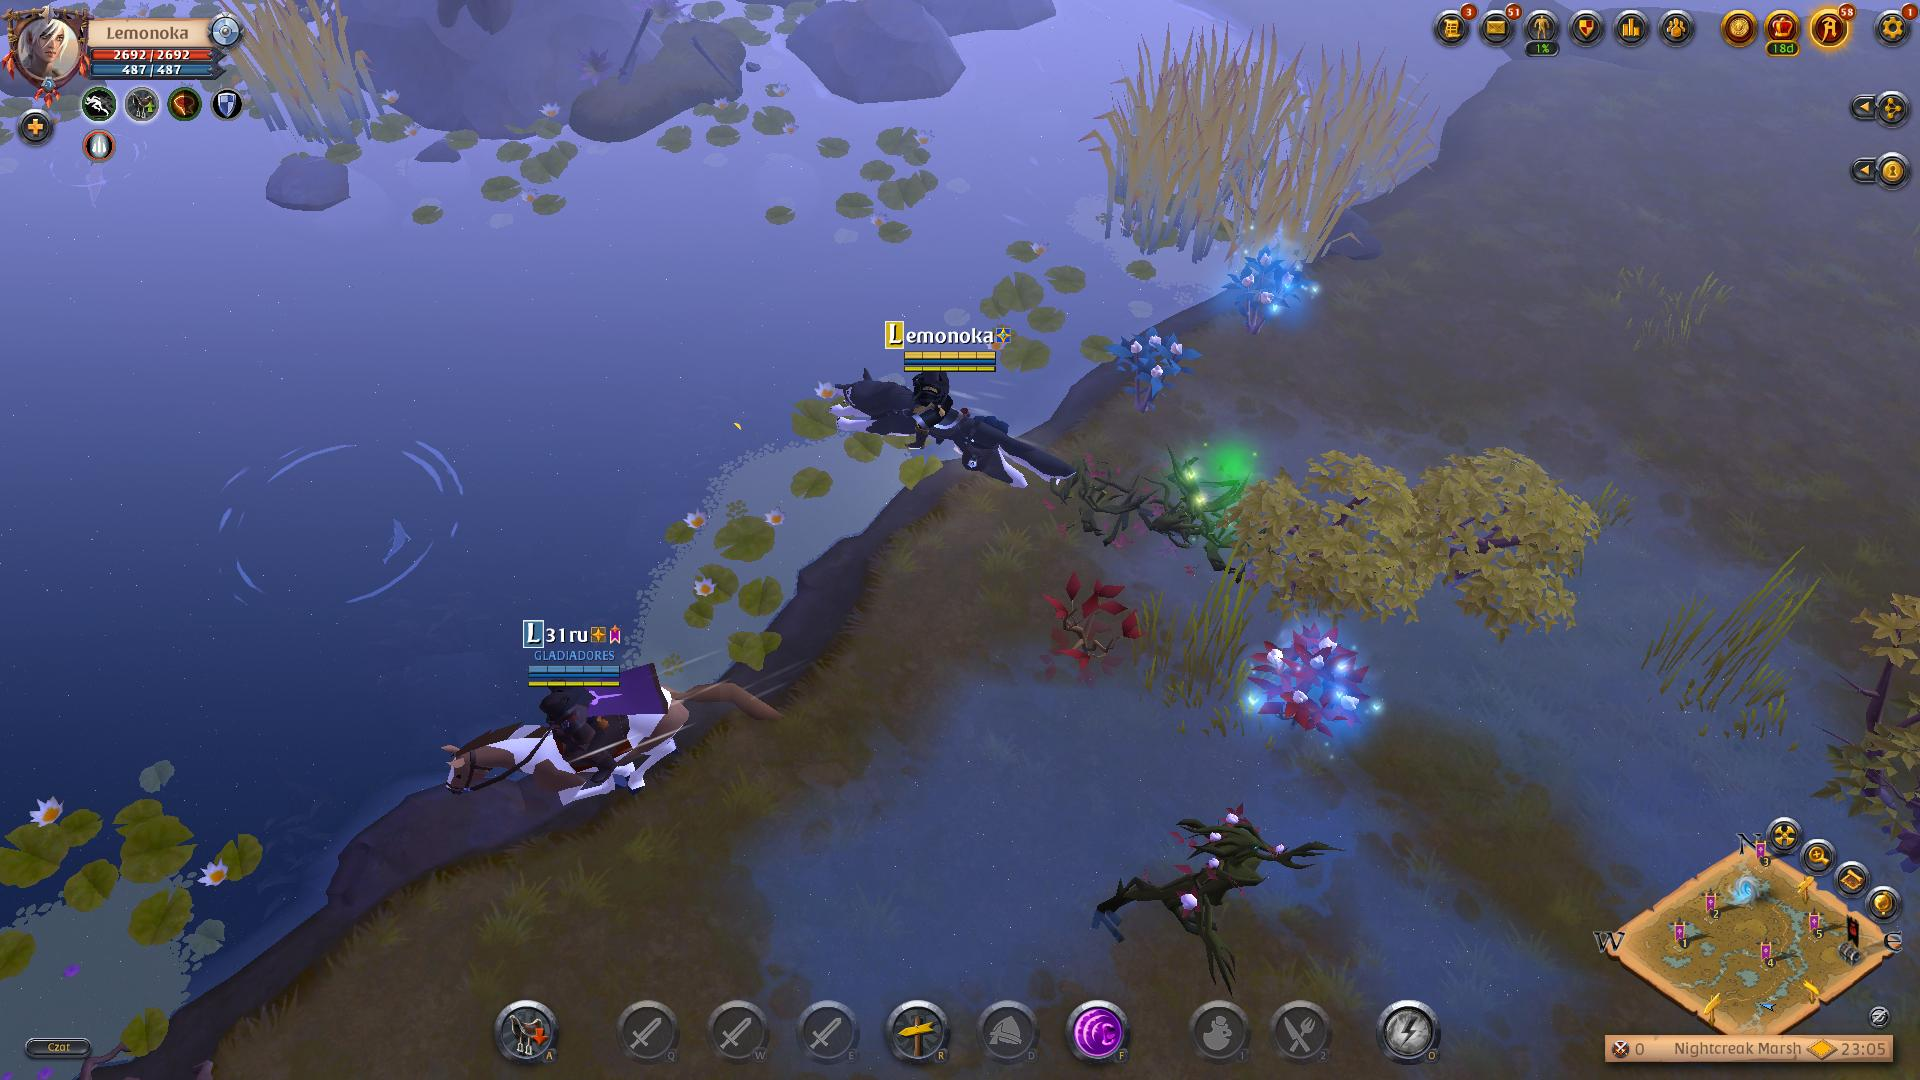fiber tier 4: (1093, 316, 1204, 418), (1215, 244, 1316, 342)
fiber tier 5: (1237, 624, 1385, 752)
fish: (194, 425, 487, 637)
